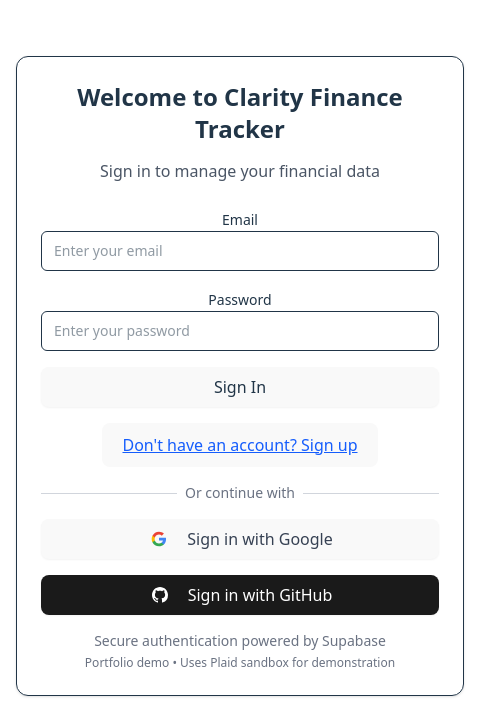
Scenario: Login Component › Rendering › shows sign up form when toggle is clicked
Click the button "Don't have an account? Sign up" at (240, 445), box [102,423,378,467]
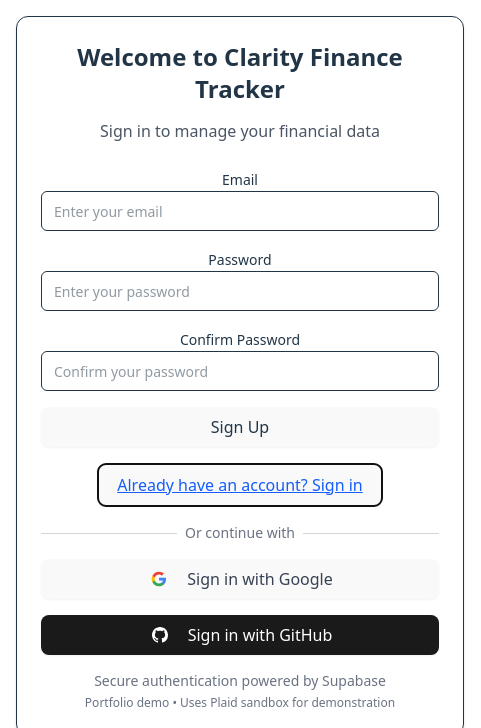
expect the password field labelled "Confirm Password" is shown: met, box [41,351,439,391]
expect the button "Sign Up" is shown: met, box [41,407,439,447]
expect the button "Already have an account? Sign in" is shown: met, box [97,463,383,507]
